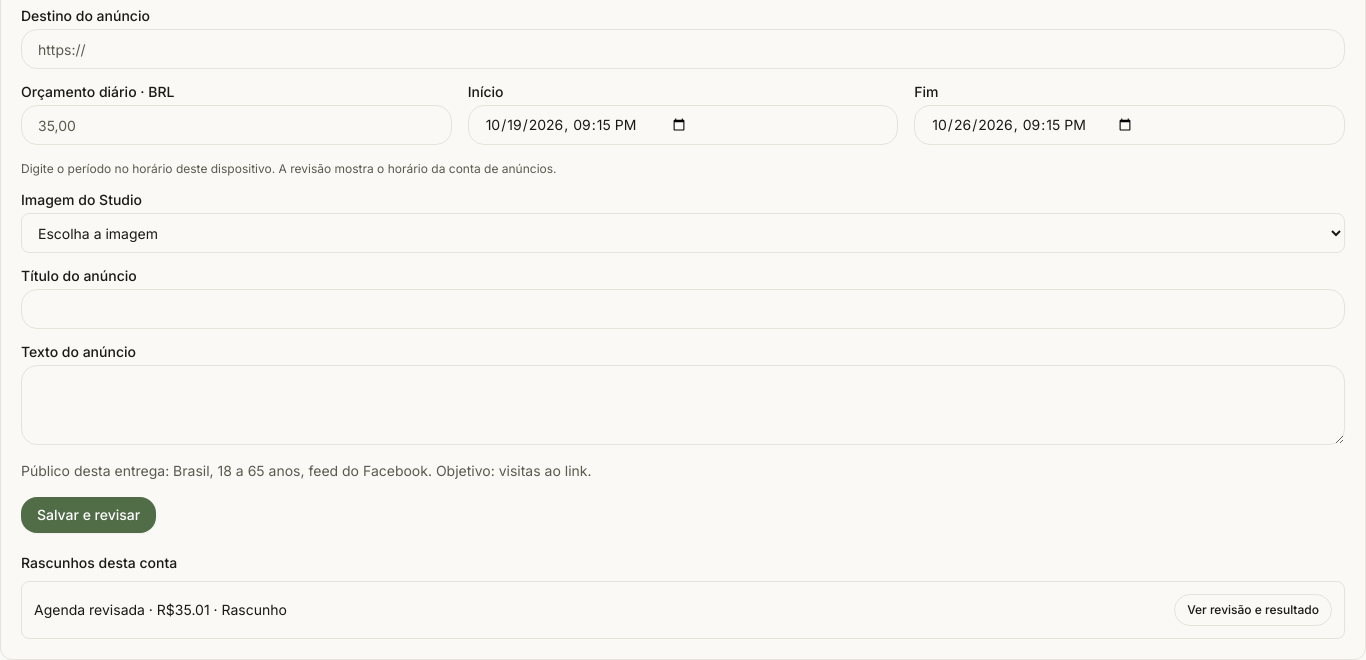
Scenario: anúncios com conexão Meta › criação incerta conserva IDs parciais e não oferece repetir criação
(page scrolled)
Click the button "Ver revisão e resultado".
click(1253, 610)  # box [1174,594,1332,626]
(page scrolled)
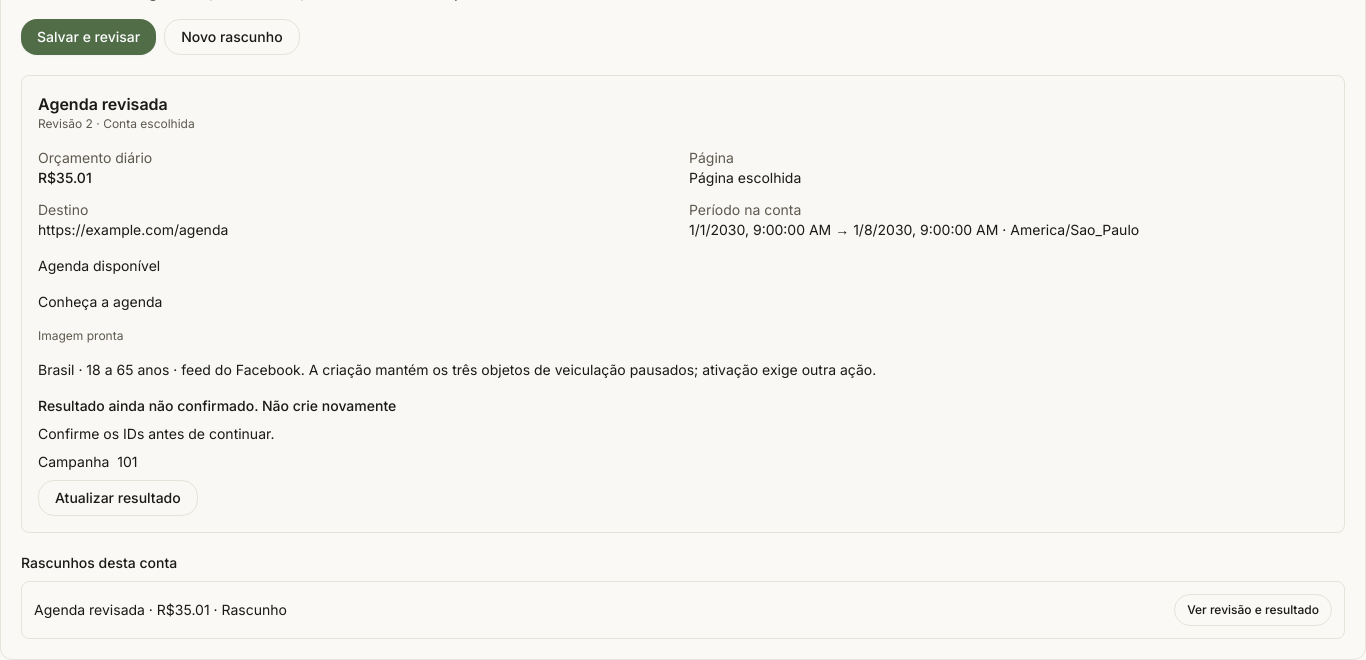
Expected: the text "Resultado ainda não confirmado. Não crie novamente" is shown, [38,397,396,414]
Expected: the text "101" is shown, [117,452,138,472]
